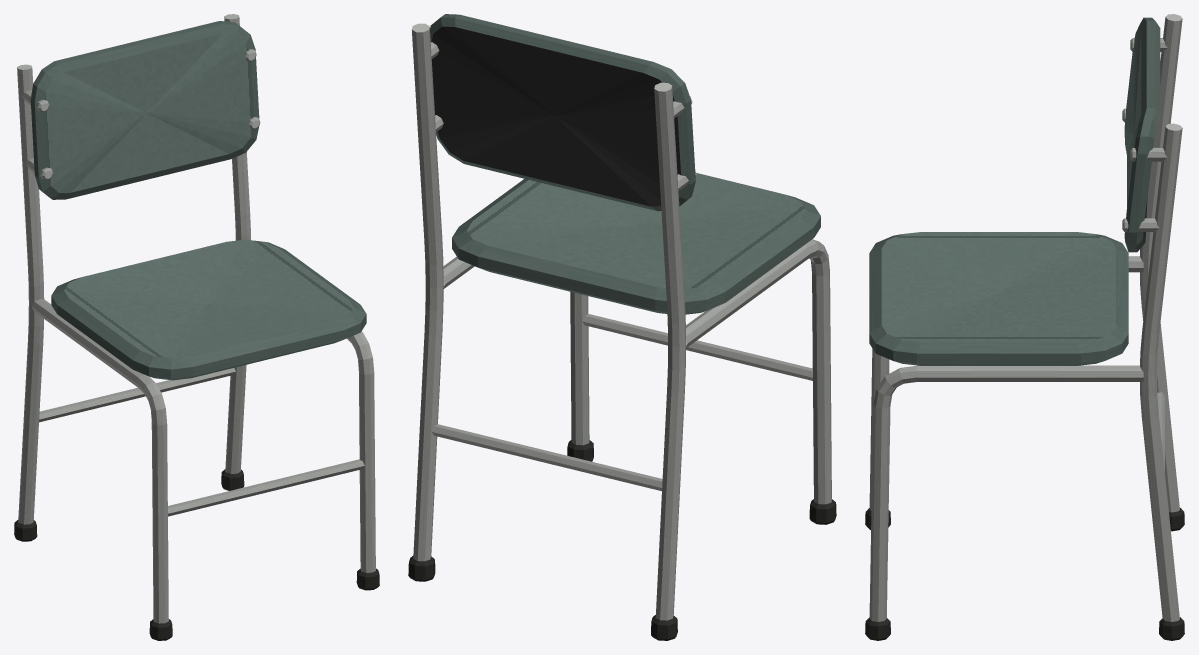
Rendered from chair.glb.
3 views of the same model, side by side, from view 1: azimuth 30°, elevation 25°; view 2: azimuth 150°, elevation 25°; view 3: azimuth 270°, elevation 25° (orthographic). The views are drawn at different scales.
Visible parts, largest first — view 1: back_panel, seat_pad, rear_post_l, front_leg_l, front_leg_r, rear_post_r, brace_front, brace_rear; view 2: back_panel, seat_pad, rear_post_l, rear_post_r, front_leg_l, front_leg_r, brace_rear, brace_front; view 3: seat_pad, rear_post_r, front_leg_r, back_panel, rear_post_l, front_leg_l, foot_front_r, foot_rear_r.
Boxes of the visible parts, left/top/right/bottom form: back_panel: left=30, top=21, right=259, bottom=199; seat_pad: left=51, top=239, right=366, bottom=380; rear_post_l: left=17, top=64, right=44, bottom=524; front_leg_l: left=31, top=299, right=168, bottom=623; front_leg_r: left=347, top=331, right=375, bottom=572; rear_post_r: left=224, top=14, right=250, bottom=473; brace_front: left=168, top=459, right=364, bottom=516; brace_rear: left=39, top=368, right=235, bottom=422; back_panel: left=430, top=14, right=695, bottom=211; seat_pad: left=452, top=173, right=820, bottom=314; rear_post_l: left=654, top=82, right=685, bottom=620; rear_post_r: left=411, top=23, right=443, bottom=561; front_leg_l: left=686, top=239, right=831, bottom=504; front_leg_r: left=443, top=256, right=589, bottom=445; brace_rear: left=431, top=424, right=662, bottom=491; brace_front: left=582, top=313, right=812, bottom=380; seat_pad: left=869, top=232, right=1128, bottom=365; rear_post_r: left=1140, top=123, right=1182, bottom=621; front_leg_r: left=869, top=365, right=1143, bottom=621; back_panel: left=1124, top=17, right=1160, bottom=252; rear_post_l: left=1140, top=14, right=1182, bottom=512; front_leg_l: left=869, top=256, right=1143, bottom=510; foot_front_r: left=865, top=617, right=890, bottom=640; foot_rear_r: left=1159, top=617, right=1184, bottom=640.
Size of the model in its own units: 0.4125 by 0.825 by 0.4625.
1 material, 1 textured.
